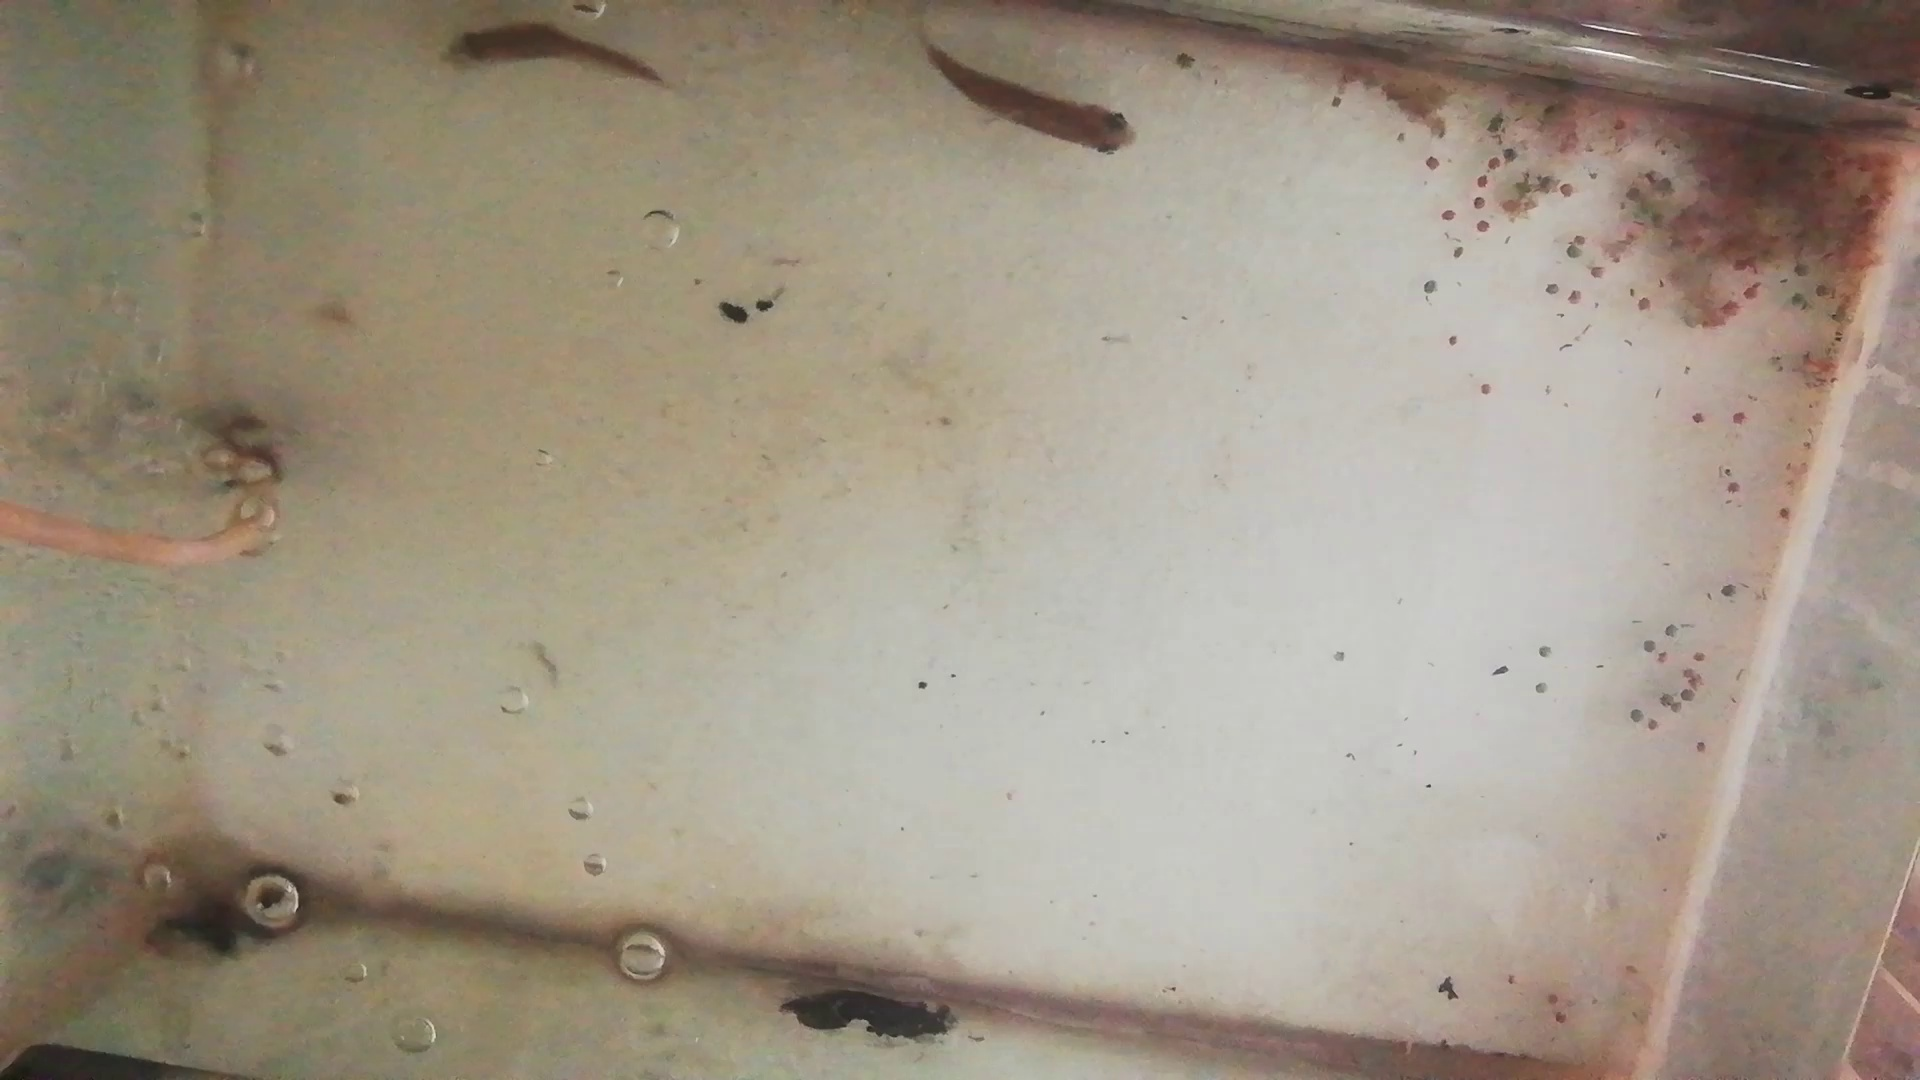fish: (924, 40, 1139, 160), (434, 26, 667, 88)
